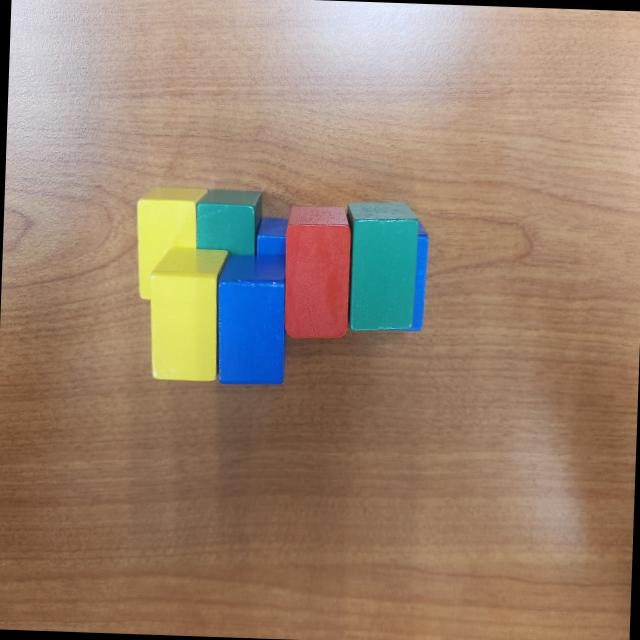blue: (212, 252, 290, 388), (372, 215, 429, 334), (254, 215, 292, 259)
green: (342, 200, 419, 334), (193, 186, 263, 256)
red: (282, 204, 350, 340)
yellow: (146, 245, 230, 383), (132, 186, 208, 302)
